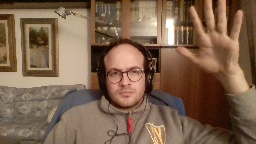Mano_aperta: (174, 0, 245, 78)
